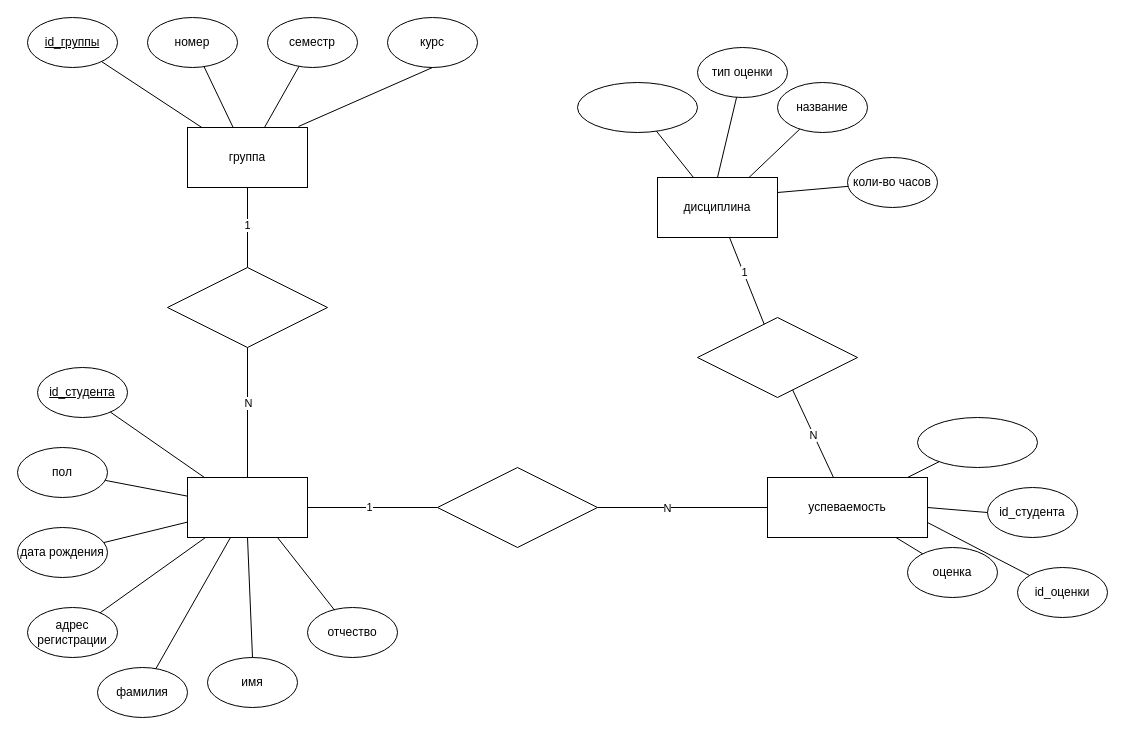
Some shapes in this 1125 by 735 pixel diagram are drawn without their labels. The shapes that lost their labels are listed below. From the top down, each one's centre as x and y in pixels, then its label:
At point 637,107: "id_дисциплины".
At point 247,307: "принадлежит".
At point 777,357: "по".
At point 977,442: "id_успеваемость".
At point 247,507: "студент".
At point 517,507: "имеет".
